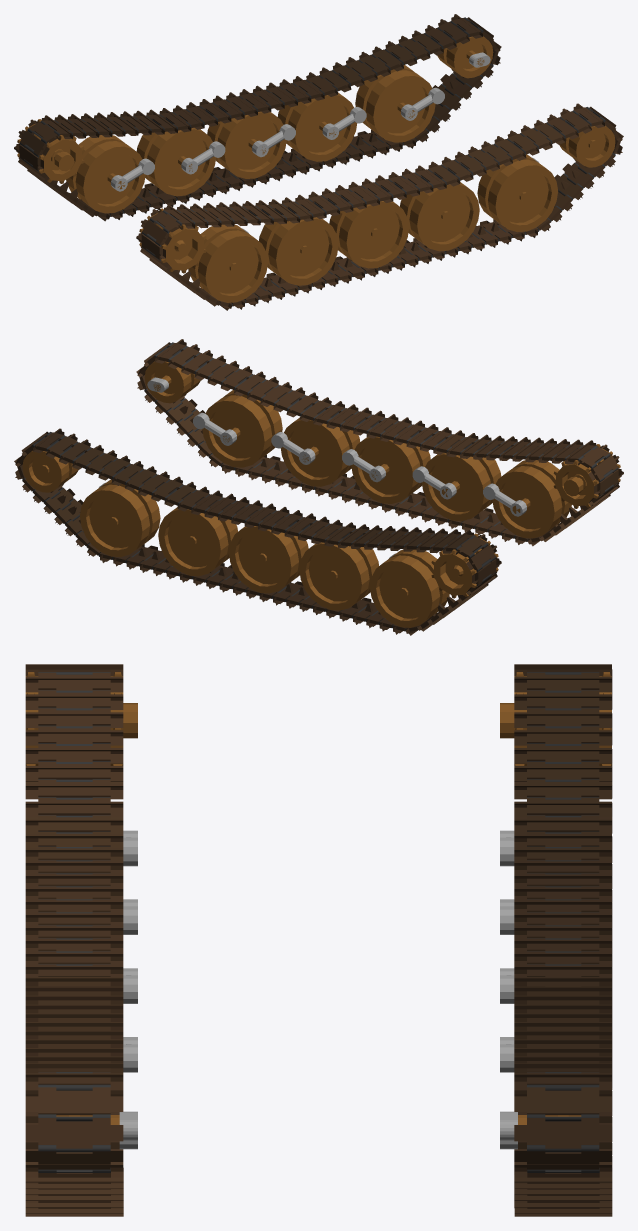
File: senil.obj
The picture shows the model from 3 angles, top to bottom: view 1: azimuth 30°, elevation 25°; view 2: azimuth 150°, elevation 25°; view 3: azimuth 270°, elevation 25°; orthographic projection. The views are drawn at different scales.
Visible parts, largest first — view 1: futomu4-; view 2: futomu4-; view 3: futomu4-.
Boxes of the visible parts, box(x1,y1,x2,y2) form: futomu4-: box(14, 14, 623, 310); futomu4-: box(14, 339, 623, 635); futomu4-: box(25, 664, 612, 1216).
Bounding box in the file's own units: 5.91 × 1.23 × 3.24.
